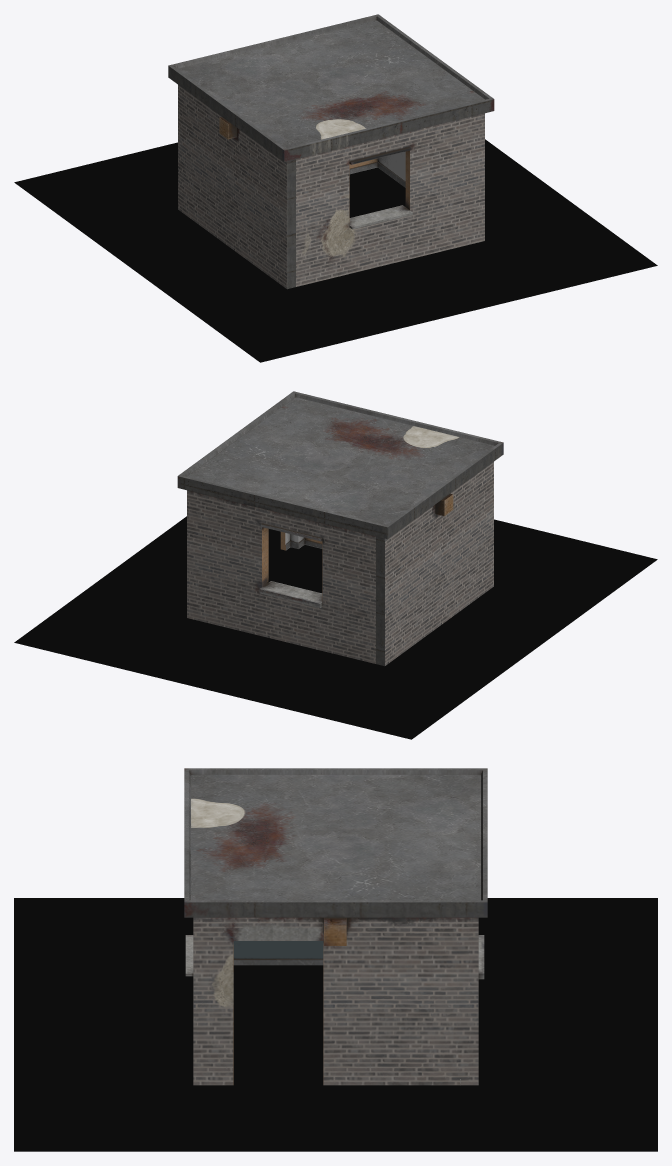
Rendered from room_building_guard_post_low_poly.glb.
The picture shows the model from 3 angles, top to bottom: view 1: azimuth 30°, elevation 25°; view 2: azimuth 150°, elevation 25°; view 3: azimuth 270°, elevation 25°; orthographic projection. The views are drawn at different scales.
Visible parts, largest first — view 1: 01_01_0, 02_02_0; view 2: 01_01_0, 02_02_0; view 3: 02_02_0, 01_01_0.
Boxes of the visible parts, left/top/right/bottom form: 01_01_0: left=168, top=14, right=494, bottom=289; 02_02_0: left=14, top=139, right=657, bottom=362; 01_01_0: left=177, top=391, right=503, bottom=666; 02_02_0: left=14, top=516, right=657, bottom=739; 02_02_0: left=14, top=898, right=657, bottom=1151; 01_01_0: left=184, top=768, right=487, bottom=1085.
Bounding box in the file's own units: 10.51 × 3.61 × 11.28.
2 materials, 1 textured.
